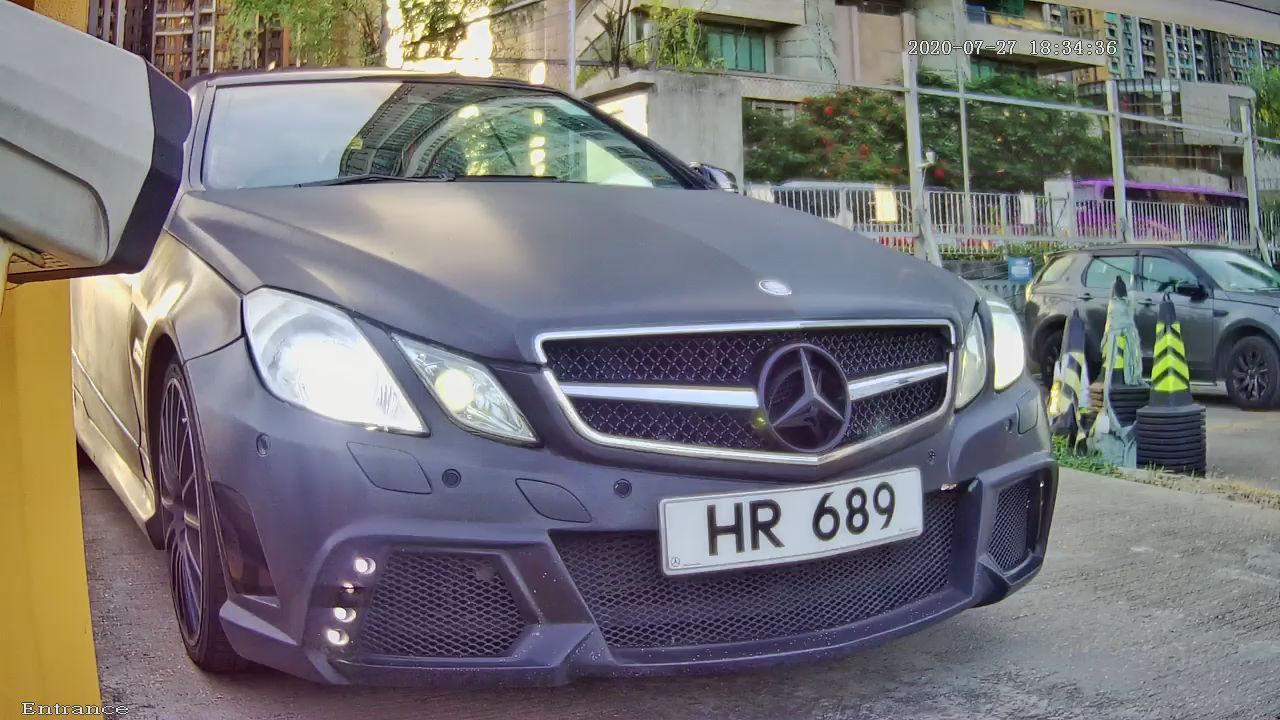privatecar: (75, 29, 1092, 717)
